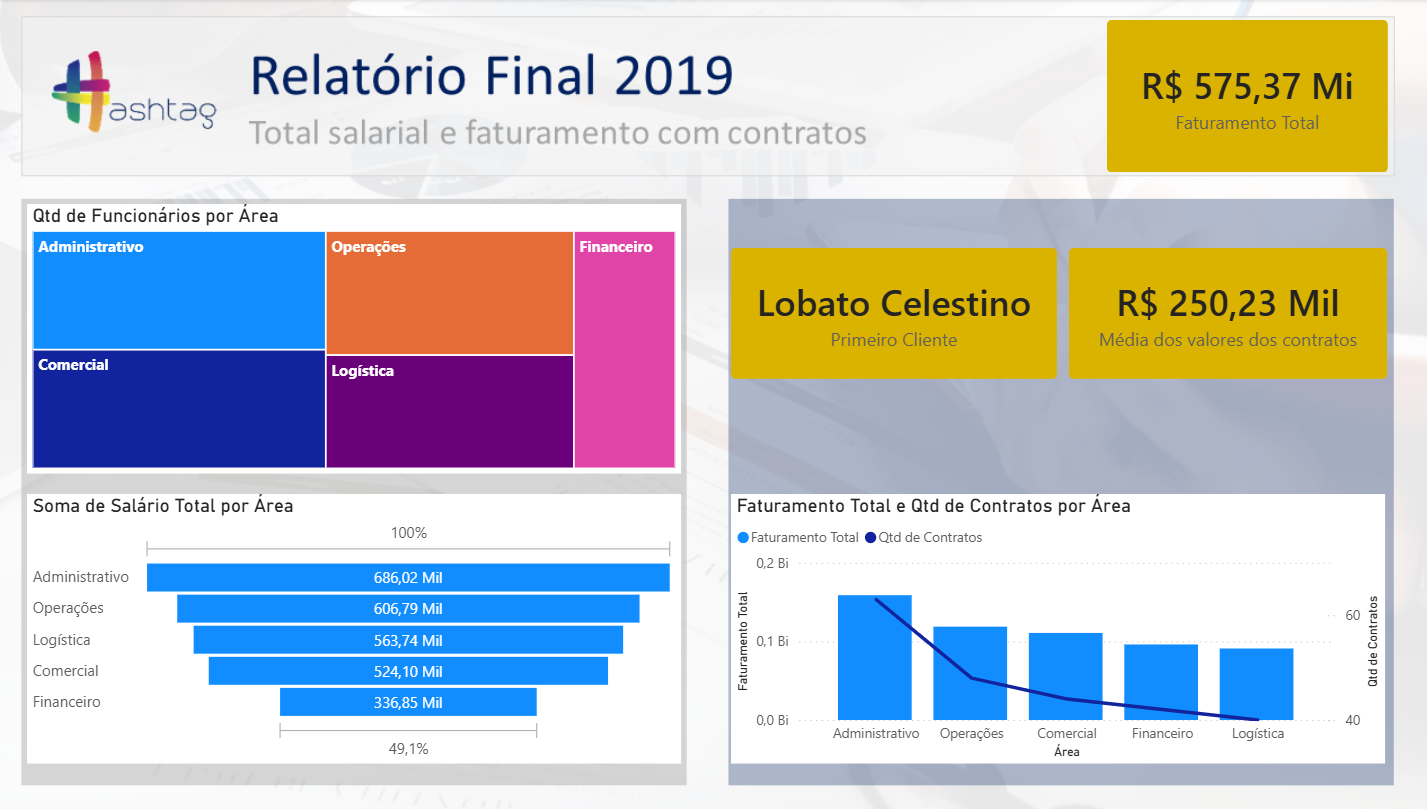

What the dashboard file says about the page in this screenshot:
{"tool":"powerbi","page":{"name":"Página 1","canvas":[1280,720],"ordinal":0},"visuals":[{"type":"treemap","fields":{"Values":["BaseServicosPrestados.Qtd de Funcionários"],"Group":["CadastroCargos.Área"]},"box":[19.5,182.7,579.9,239.4],"z":0},{"type":"cardVisual","fields":{"Data":["Min(CadastroClientes.Cliente)"]},"box":[673.9,220.8,289.1,116.2],"z":1000},{"type":"cardVisual","fields":{"Data":["BaseServicosPrestados.Média dos valores dos contratos"]},"box":[983.3,220.8,282.9,116.2],"z":2000},{"type":"funnel","fields":{"Y":["Sum(CadastroFuncionarios.Salário Total)"],"Category":["CadastroCargos.Área"]},"box":[19.5,438.9,579.9,239.4],"z":3000},{"type":"lineClusteredColumnComboChart","fields":{"Y":["BaseServicosPrestados.Faturamento Total"],"Category":["CadastroCargos.Área"],"Y2":["BaseServicosPrestados.Qtd de Contratos"]},"box":[679.2,438.9,579.9,239.4],"z":4000},{"type":"cardVisual","fields":{"Data":["BaseServicosPrestados.Faturamento Total"]},"box":[1010,8,249.2,135.7],"z":5000}]}

Visuals, with their boxes in screenshot pixels (x1, y1, x2, y2), scaled from the page's 1280x720 canvas onto the 1427x809 screenshot:
treemap - BaseServicosPrestados.Qtd de Funcionários x CadastroCargos.Área: bbox(22, 205, 668, 474)
cardVisual - Min(CadastroClientes.Cliente): bbox(751, 248, 1074, 379)
cardVisual - BaseServicosPrestados.Média dos valores dos contratos: bbox(1096, 248, 1412, 379)
funnel - Sum(CadastroFuncionarios.Salário Total) x CadastroCargos.Área: bbox(22, 493, 668, 762)
lineClusteredColumnComboChart - BaseServicosPrestados.Faturamento Total x CadastroCargos.Área: bbox(757, 493, 1404, 762)
cardVisual - BaseServicosPrestados.Faturamento Total: bbox(1126, 9, 1404, 161)
